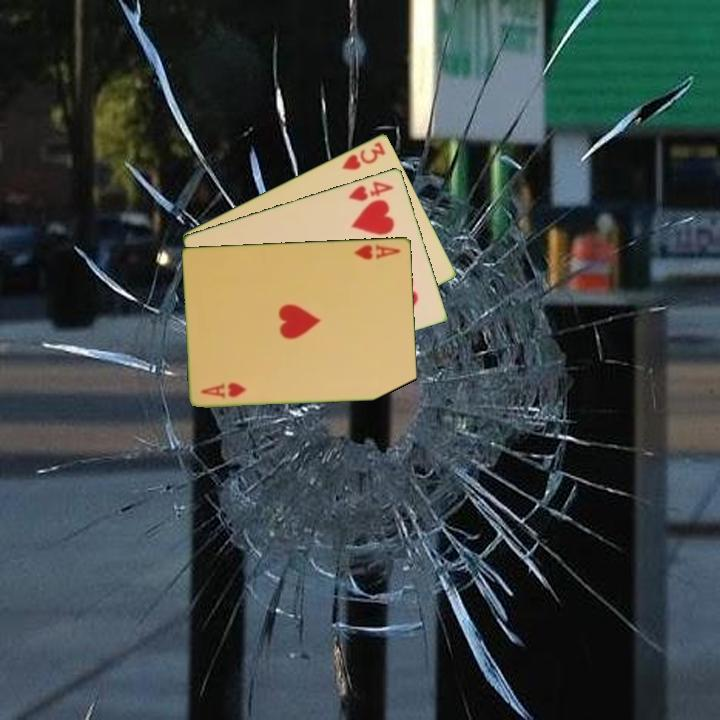3h: (338, 138, 388, 173)
4h: (345, 177, 397, 204)
Ah: (351, 240, 404, 262), (197, 380, 250, 401)
